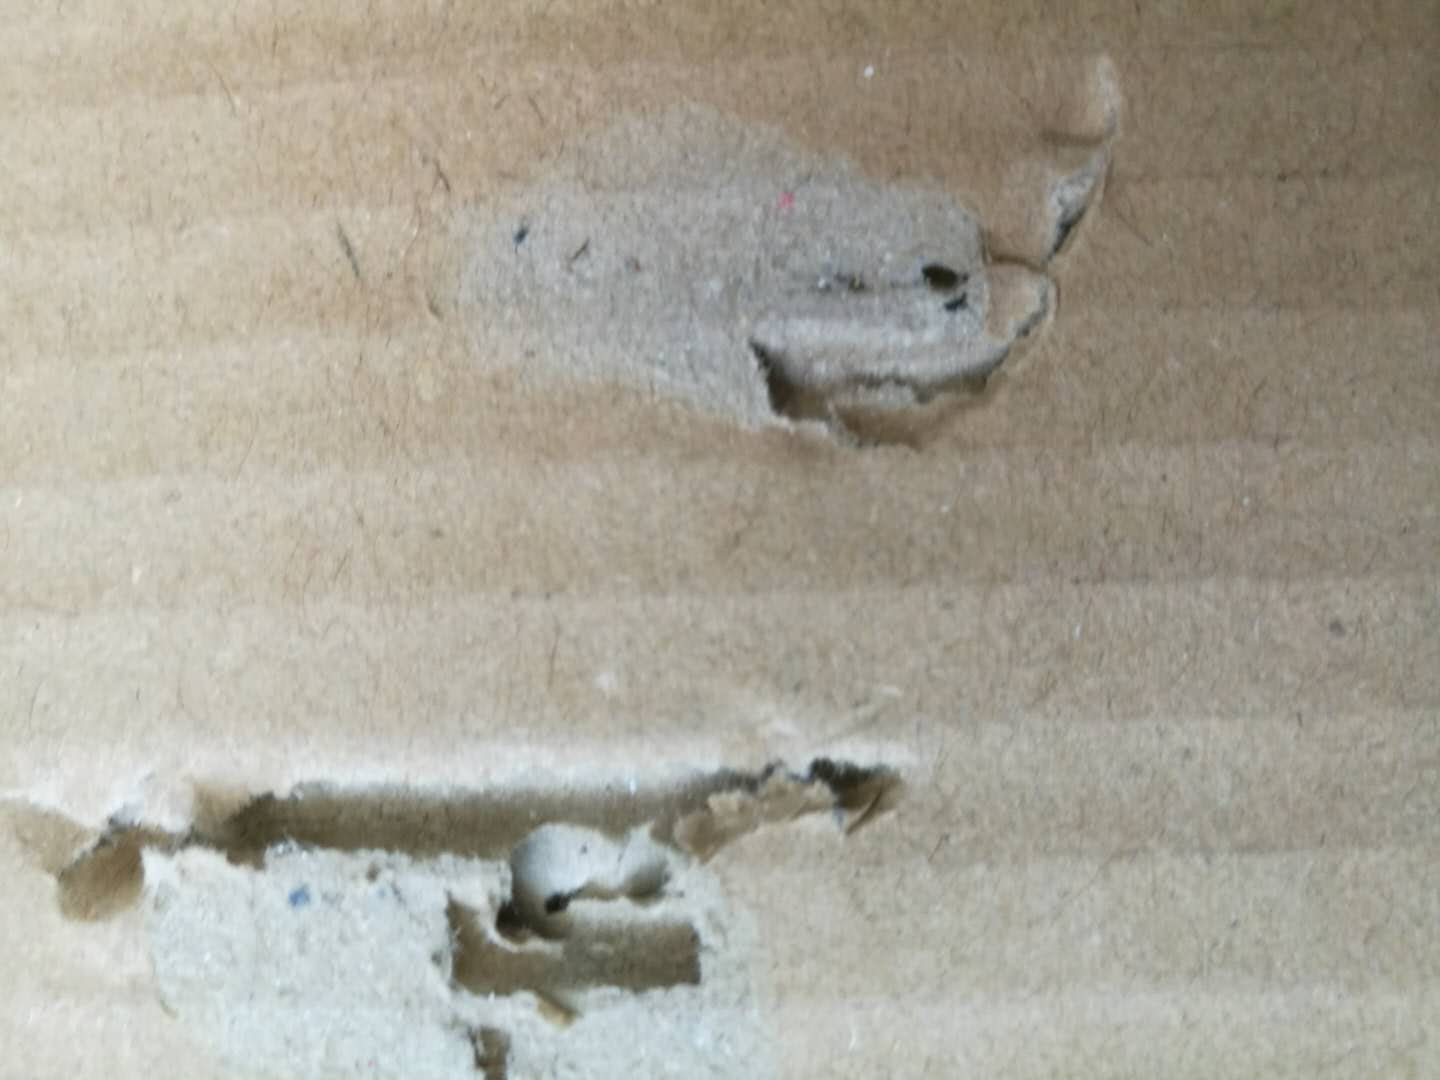defect: (1, 684, 1016, 1080), (393, 37, 1160, 497)
